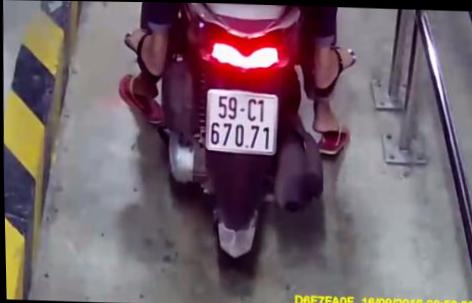LP: (201, 87, 280, 156)
